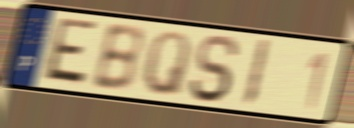1: (305, 51, 329, 111)
B: (88, 23, 145, 95)
E: (39, 15, 100, 90)
I: (239, 37, 273, 110)
Q: (140, 29, 193, 100)
S: (186, 33, 242, 105)
